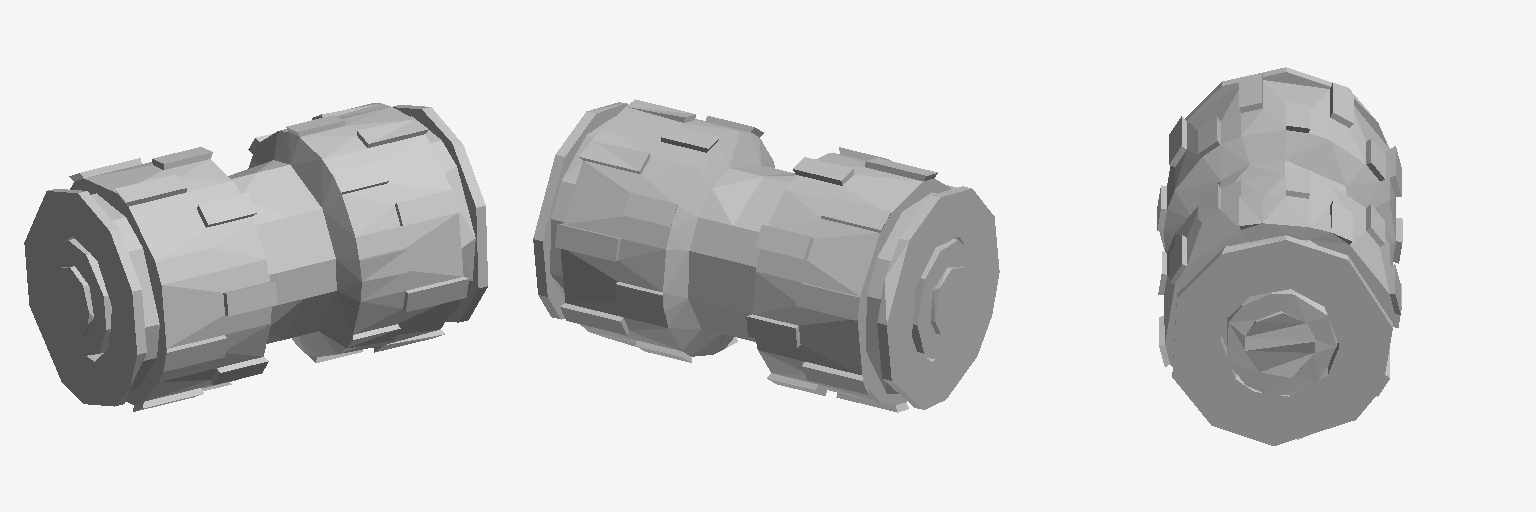
The model's file is Kola_000022.obj.
3 renders of one model, left to right at view 1: azimuth 30°, elevation 25°; view 2: azimuth 150°, elevation 25°; view 3: azimuth 270°, elevation 25°, orthographic.
Visible parts, largest first — view 1: Cylinder.004; view 2: Cylinder.004; view 3: Cylinder.004.
Boxes of the visible parts, x1=… form: Cylinder.004: x1=24, y1=103, x2=487, y2=411; Cylinder.004: x1=533, y1=99, x2=999, y2=412; Cylinder.004: x1=1157, y1=67, x2=1402, y2=445.
Bounding box in the file's own units: 2.17 × 1.25 × 1.25.